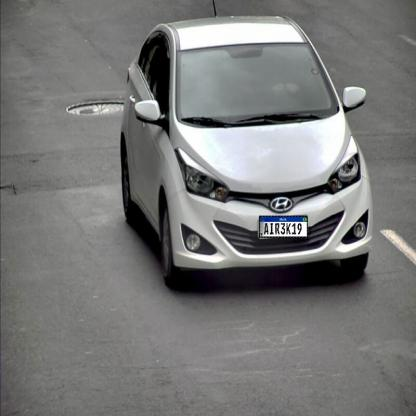PlacaM: (259, 216, 308, 238)
